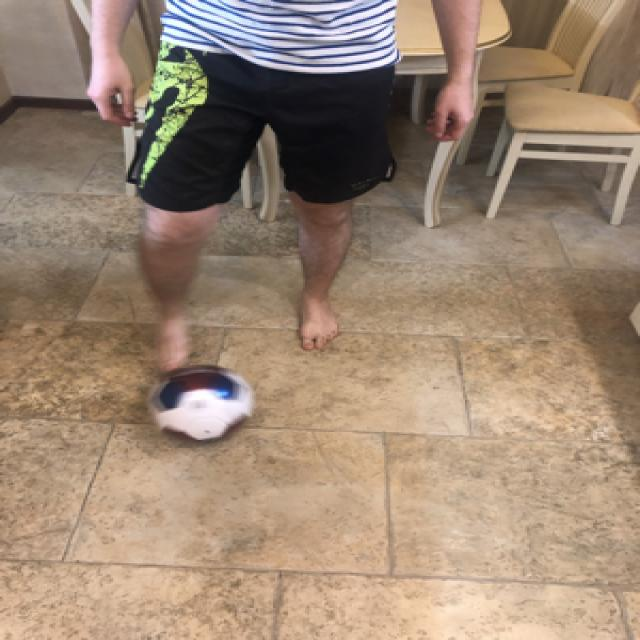soccer_ball: (143, 358, 254, 442)
